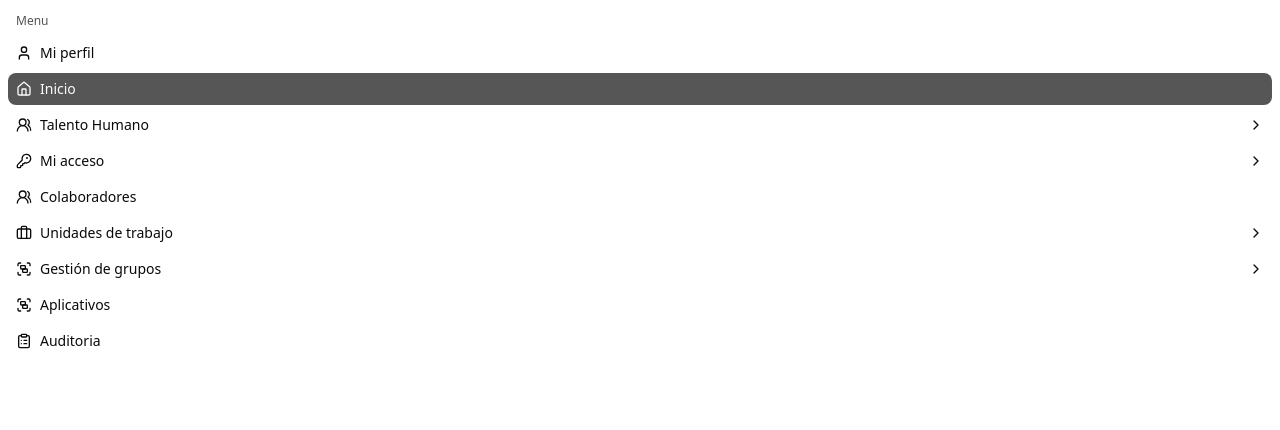
NavMenu permissions › expande Mi acceso y muestra sus subitems
Click the button "Mi acceso": (72, 160) [8,145,1272,177]
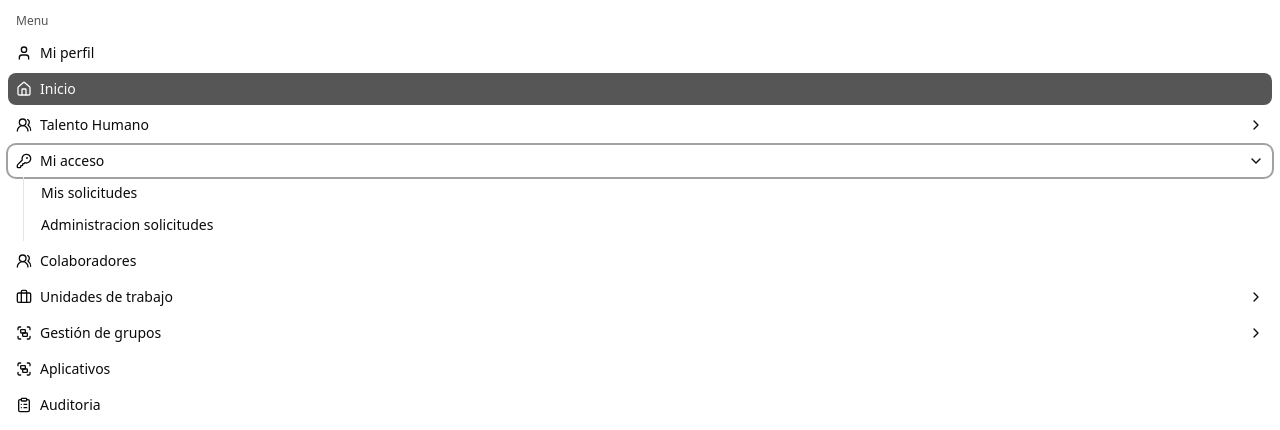
Expected: the text "Mis solicitudes" is shown, [41,183,137,202]
Expected: the text "Administracion solicitudes" is shown, [41,215,213,234]
Expected: the button "Mi acceso" is expanded, [8,145,1272,177]
